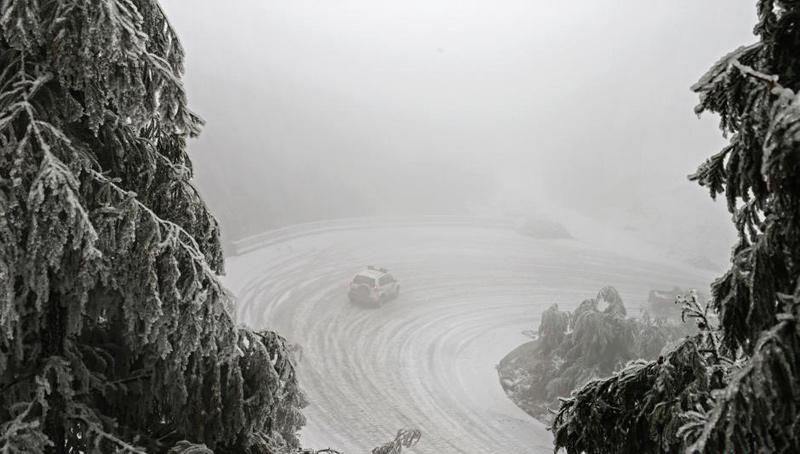car: (348, 265, 400, 307)
